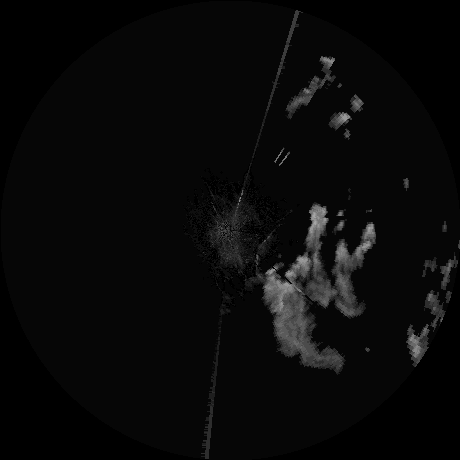frontgust: (253, 230, 270, 282)
